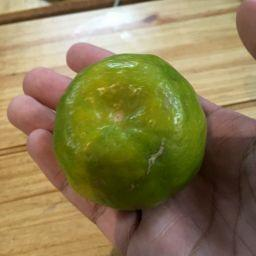Ripe: (55, 56, 204, 207)
